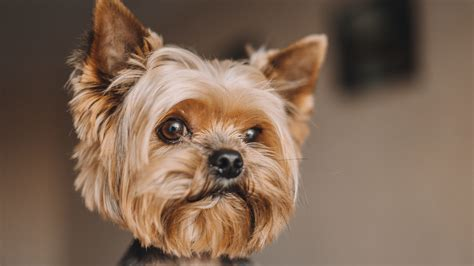dog: (50, 6, 348, 263)
